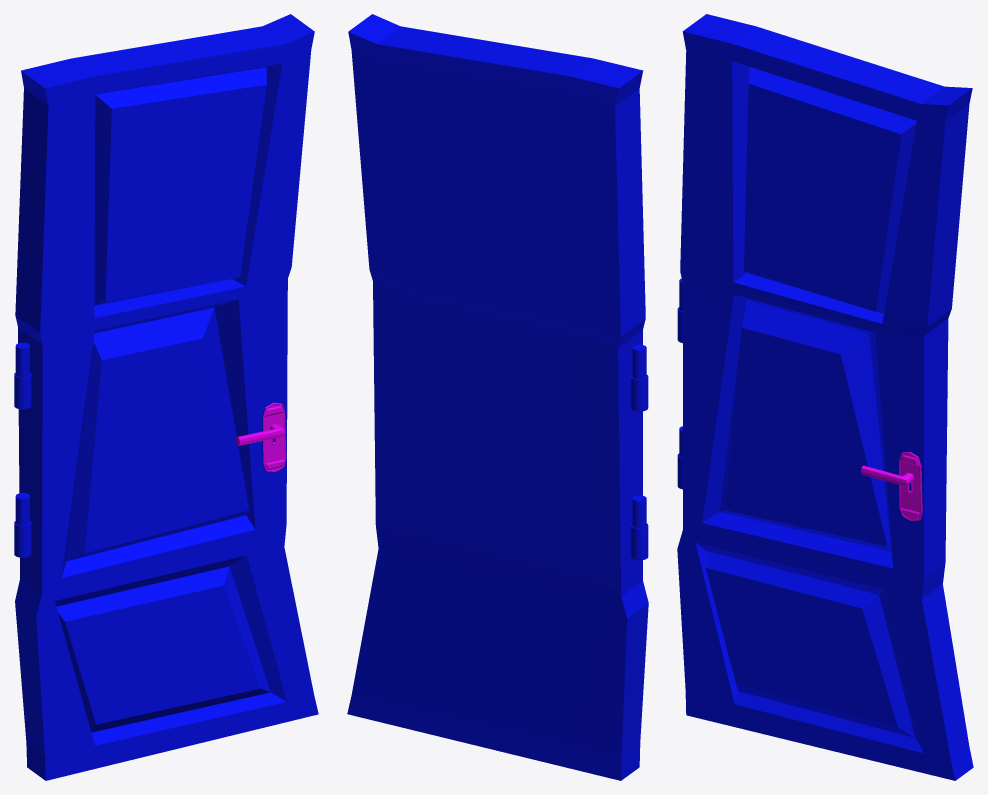
Rendered from DOOR_LEFT.fbx.
The picture shows the model from 3 angles, left to right: view 1: azimuth 30°, elevation 25°; view 2: azimuth 150°, elevation 25°; view 3: azimuth 330°, elevation 25°; orthographic projection.
Parts seen in each view (by area): view 1: Box042; view 2: Box042; view 3: Box042.
Boxes of the visible parts, x1,y1,x2,y2 form: Box042: (14, 14, 318, 780); Box042: (347, 14, 648, 780); Box042: (677, 14, 973, 780).
Size of the model in its own units: 1.06 by 2.41 by 0.2067.
